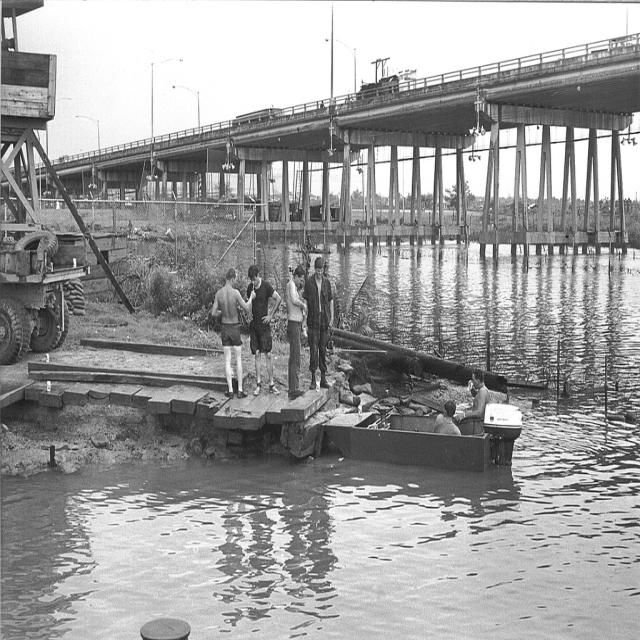Boat: (320, 399, 523, 471)
